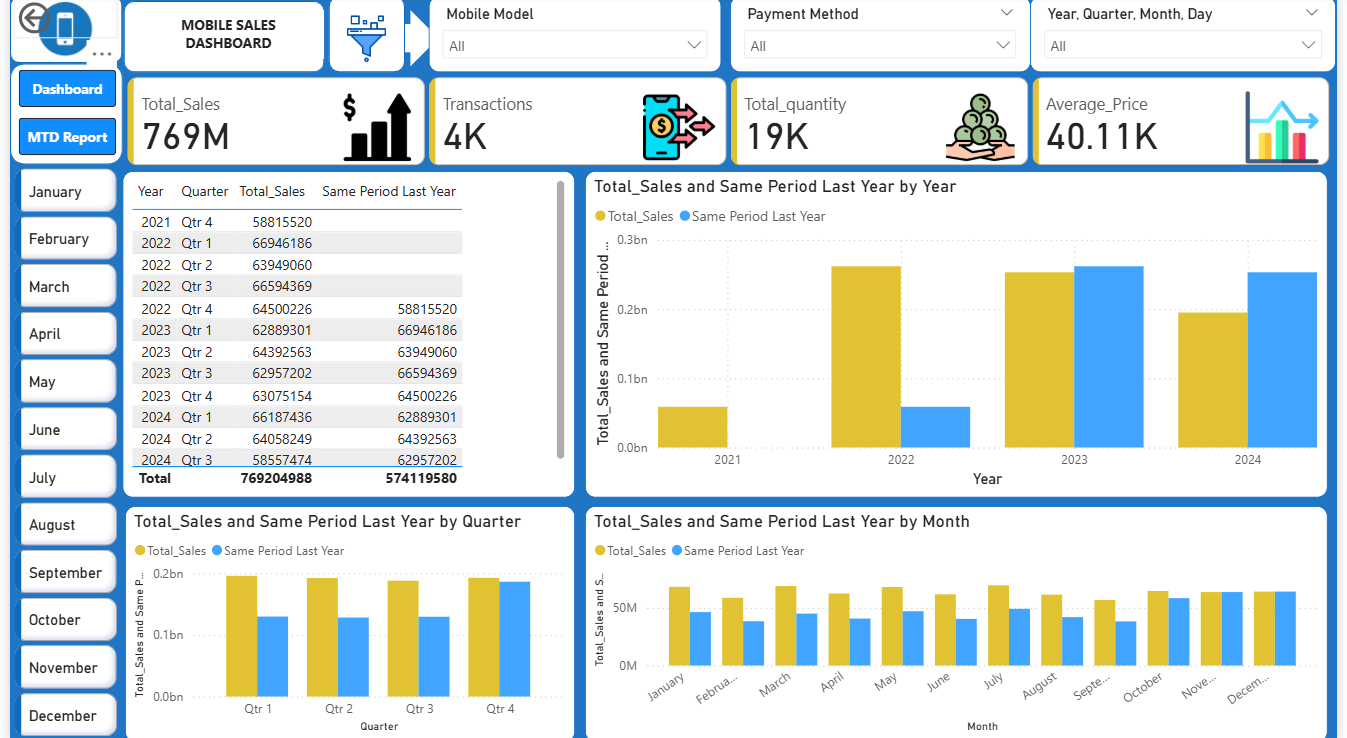

The dashboard page shown, as its layout file describes it:
{"tool":"powerbi","page":{"name":"Same Period Last Year","canvas":[1280,720],"ordinal":2},"visuals":[{"type":"shape","box":[345,13.8,68.8,55],"z":0},{"type":"shape","box":[0,0,108.8,65],"z":1000},{"type":"image","box":[8.8,0,92.5,65],"z":2000},{"type":"shape","box":[0,65,108.8,97.5],"z":3000},{"type":"cardVisual","fields":{"Data":["Sales_data.Total_Sales","Sales_data.Transactions","Sales_data.Total_quantity","Sales_data.Average_Price"]},"box":[108.8,73.8,1171.2,95],"z":4000},{"type":"slicer","fields":{"Values":["Sales_data.Mobile Model"]},"box":[403.8,0,282.5,73.8],"z":5000},{"type":"slicer","fields":{"Values":["Sales_data.Payment Method"]},"box":[695,0,290,73.8],"z":6000},{"type":"slicer","fields":{"Values":["Custom_Calender.Date.Variation.Date Hierarchy.Year","Custom_Calender.Date.Variation.Date Hierarchy.Quarter","Custom_Calender.Date.Variation.Date Hierarchy.Month","Custom_Calender.Date.Variation.Date Hierarchy.Day"]},"box":[985,0,295,73.8],"z":7000},{"type":"shape","box":[307.5,0,73.8,73.8],"z":8000},{"type":"image","box":[316.2,8.8,56.2,65],"z":9000},{"type":"shape","box":[110,5,193.8,68.8],"z":10000},{"type":"textbox","box":[118.8,13.8,185,47.5],"z":11000},{"type":"actionButton","box":[3.6,1.2,100.1,39.8],"z":12000},{"type":"advancedSlicerVisual","fields":{"Values":["Query1.Date.Variation.Date Hierarchy.Month"]},"box":[0,161.7,108.6,558.6],"z":13000},{"type":"tableEx","fields":{"Values":["Custom_Calender.Date.Variation.Date Hierarchy.Year","Custom_Calender.Date.Variation.Date Hierarchy.Quarter","Sales_data.Total_Sales","Sales_data.Same Period Last Year"]},"box":[108.6,168.9,436.7,314.9],"z":14000},{"type":"clusteredColumnChart","fields":{"Category":["Custom_Calender.Date.Variation.Date Hierarchy.Year","Custom_Calender.Date.Variation.Date Hierarchy.Quarter"],"Y":["Sales_data.Total_Sales","Sales_data.Same Period Last Year"]},"box":[555,168.9,716.6,314.9],"z":15000},{"type":"clusteredColumnChart","fields":{"Category":["Custom_Calender.Date.Variation.Date Hierarchy.Year","Custom_Calender.Date.Variation.Date Hierarchy.Quarter"],"Y":["Sales_data.Total_Sales","Sales_data.Same Period Last Year"]},"box":[111,492.2,434.3,228],"z":16000},{"type":"clusteredColumnChart","fields":{"Y":["Sales_data.Total_Sales","Sales_data.Same Period Last Year"],"Category":["Custom_Calender.Date.Variation.Date Hierarchy.Year","Custom_Calender.Date.Variation.Date Hierarchy.Quarter","Custom_Calender.Date.Variation.Date Hierarchy.Month","Custom_Calender.Date.Variation.Date Hierarchy.Day"]},"box":[555,492.2,716.6,228],"z":17000},{"type":"pageNavigator","box":[8.4,71.2,94.1,83.2],"z":18000}]}

Visuals, with their boxes in screenshot pixels (x1, y1, x2, y2), scaled from the page's 1280x720 canvas onto the 1347x738 screenshot:
shape: x1=363, y1=14, x2=435, y2=71
shape: x1=0, y1=0, x2=114, y2=67
image: x1=9, y1=0, x2=107, y2=67
shape: x1=0, y1=67, x2=114, y2=167
cardVisual - Sales_data.Total_Sales x Sales_data.Transactions: x1=114, y1=76, x2=1346, y2=173
slicer - Sales_data.Mobile Model: x1=425, y1=0, x2=722, y2=76
slicer - Sales_data.Payment Method: x1=731, y1=0, x2=1037, y2=76
slicer - Custom_Calender.Date.Variation.Date Hierarchy.Year x Custom_Calender.Date.Variation.Date Hierarchy.Quarter: x1=1037, y1=0, x2=1346, y2=76
shape: x1=324, y1=0, x2=401, y2=76
image: x1=333, y1=9, x2=392, y2=76
shape: x1=116, y1=5, x2=320, y2=76
textbox: x1=125, y1=14, x2=320, y2=63
actionButton: x1=4, y1=1, x2=109, y2=42
advancedSlicerVisual - Query1.Date.Variation.Date Hierarchy.Month: x1=0, y1=166, x2=114, y2=737
tableEx - Custom_Calender.Date.Variation.Date Hierarchy.Year x Custom_Calender.Date.Variation.Date Hierarchy.Quarter: x1=114, y1=173, x2=574, y2=496
clusteredColumnChart - Custom_Calender.Date.Variation.Date Hierarchy.Year x Custom_Calender.Date.Variation.Date Hierarchy.Quarter: x1=584, y1=173, x2=1338, y2=496
clusteredColumnChart - Custom_Calender.Date.Variation.Date Hierarchy.Year x Custom_Calender.Date.Variation.Date Hierarchy.Quarter: x1=117, y1=505, x2=574, y2=737
clusteredColumnChart - Sales_data.Total_Sales x Sales_data.Same Period Last Year: x1=584, y1=505, x2=1338, y2=737
pageNavigator: x1=9, y1=73, x2=108, y2=158
